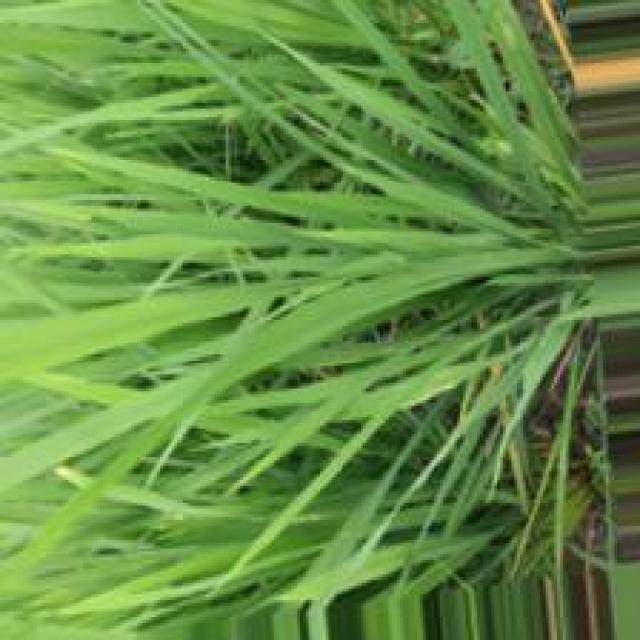HealthyLeaf: (2, 129, 577, 542)
